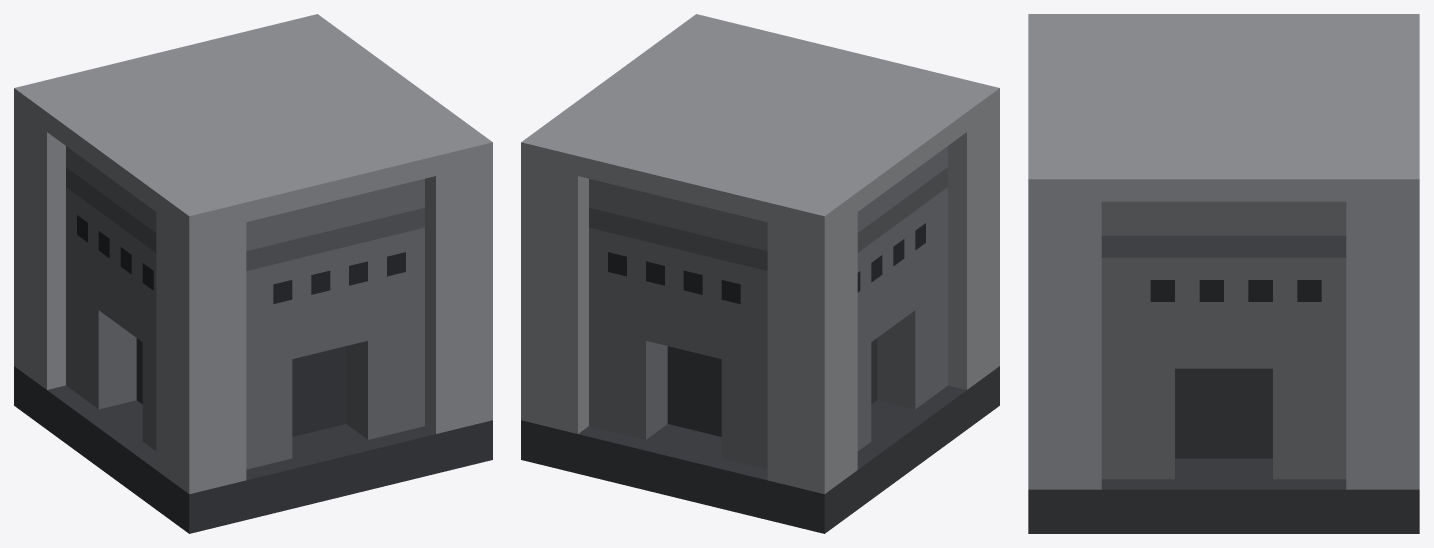
3 views of the same model, side by side, from view 1: azimuth 30°, elevation 25°; view 2: azimuth 150°, elevation 25°; view 3: azimuth 270°, elevation 25° (orthographic). The views are drawn at different scales.
Parts seen in each view (by area): view 1: Base_2x2; view 2: Base_2x2; view 3: Base_2x2.
Boxes of the visible parts, box(x1,y1,x2,y2) form: Base_2x2: box(14, 14, 492, 533); Base_2x2: box(521, 14, 999, 533); Base_2x2: box(1028, 14, 1419, 533).
Bounding box in the file's own units: 8 × 8 × 8.
1 material, 1 textured.
